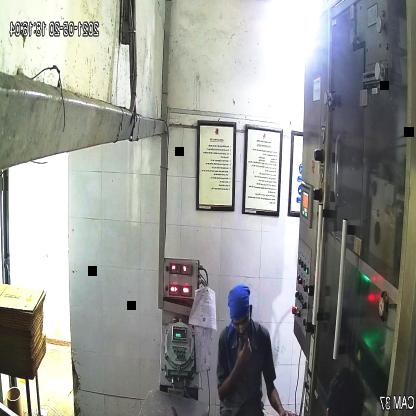goggles: (230, 310, 254, 334)
